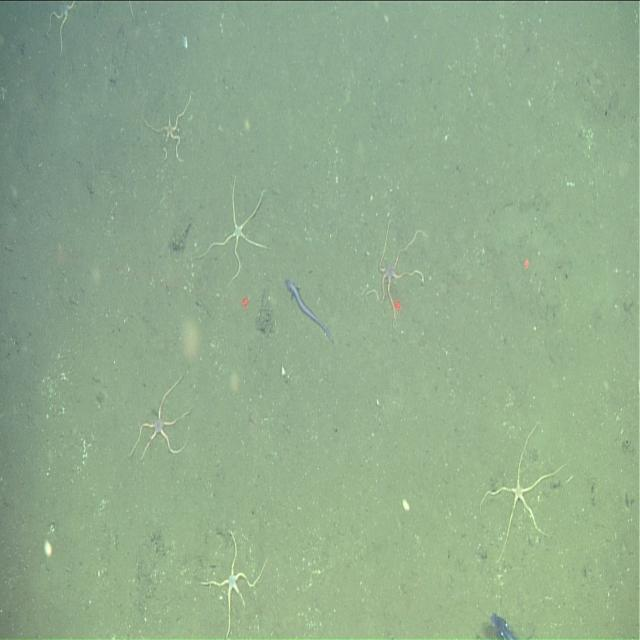Brittle Star: (476, 417, 570, 566), (192, 171, 274, 292), (360, 214, 430, 330), (197, 528, 269, 638), (128, 366, 195, 468), (140, 89, 194, 167)
Not Brittle Star: (280, 274, 336, 346)
